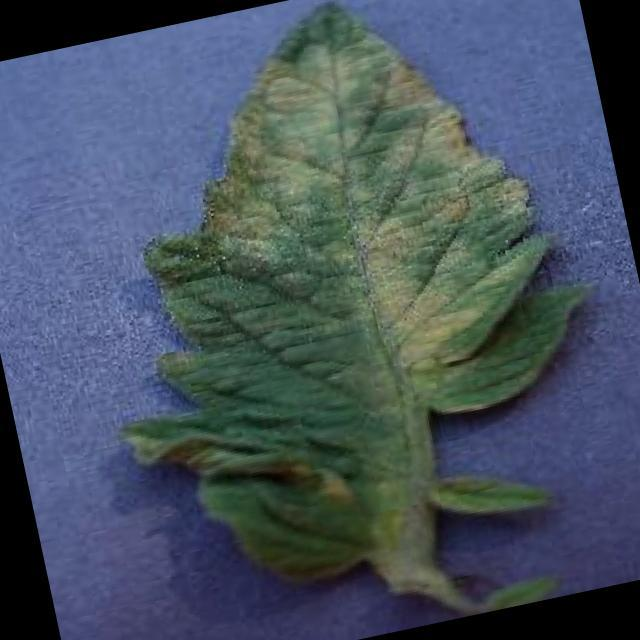Tomato mold leaf: (40, 0, 635, 618)
